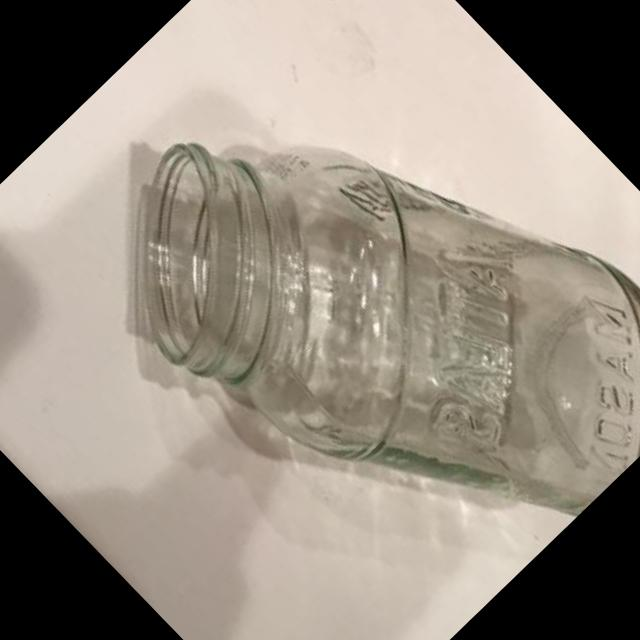ToplesKaca: (47, 0, 640, 640)
